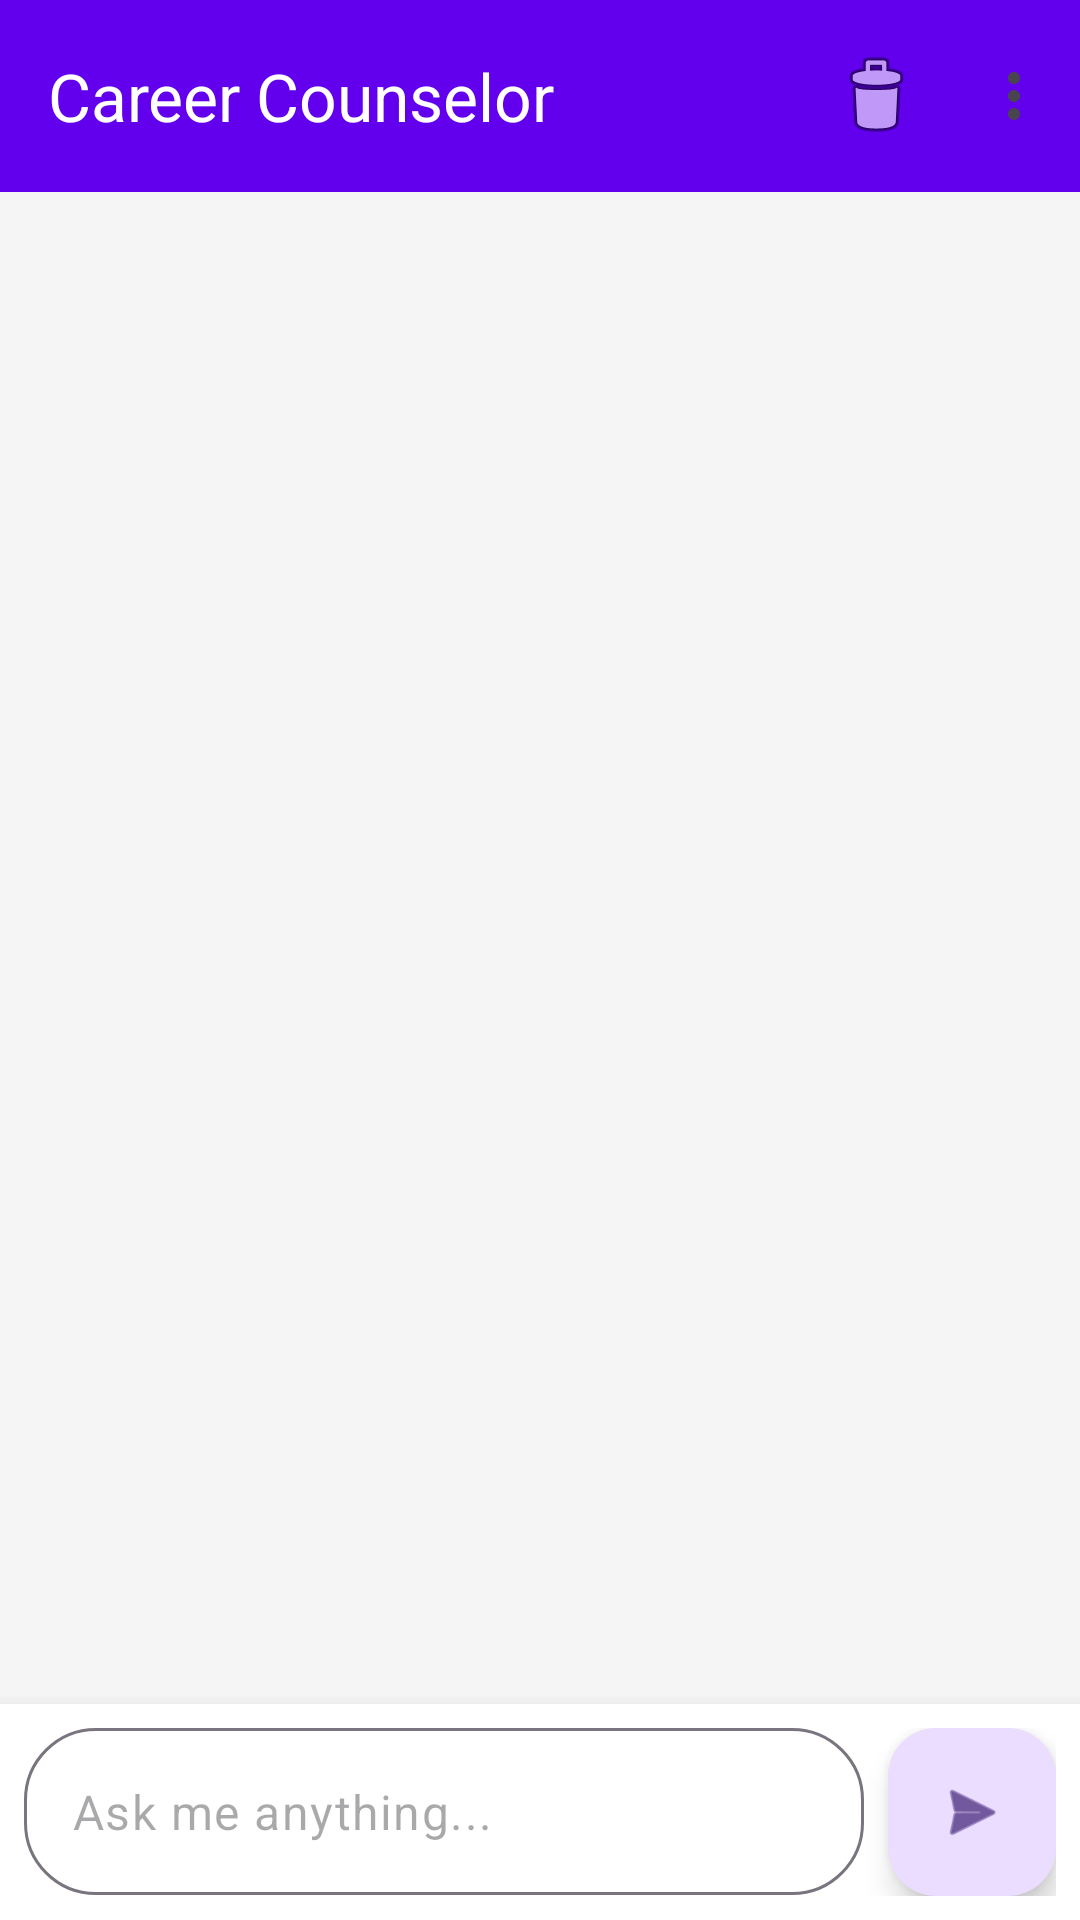

Locate icon controls on the screen. Image size 1080*1920, boxes as (x1,y1,x2,y2).
Send message: (888,1728,1056,1896)
